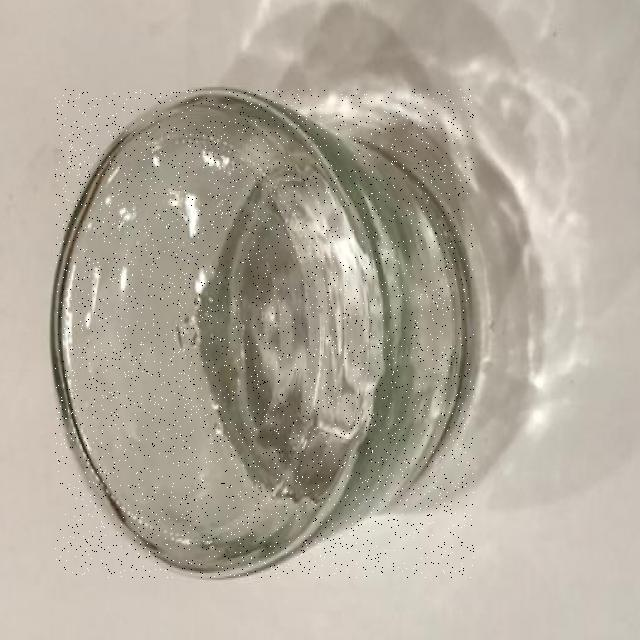glass: (56, 89, 474, 578)
